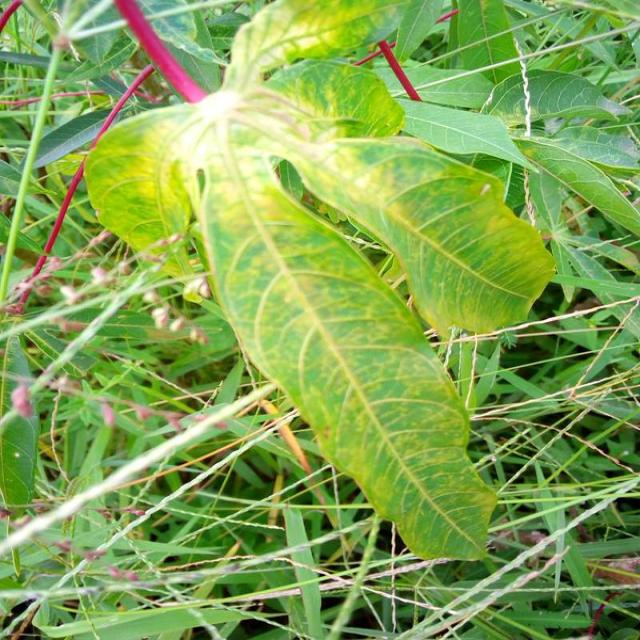cassava leaf: (83, 3, 557, 564), (276, 131, 558, 338)
